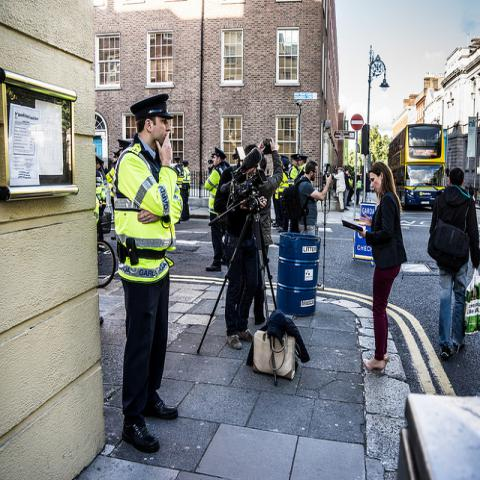bus: (388, 125, 447, 206)
